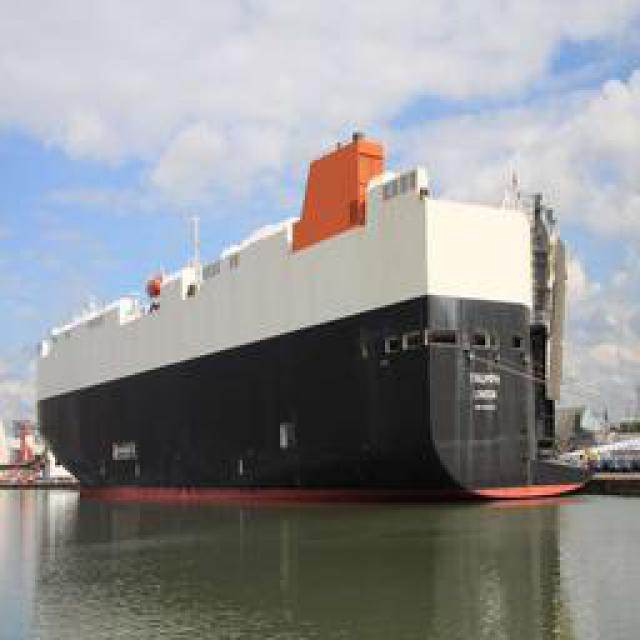Ship: (27, 126, 592, 512)
